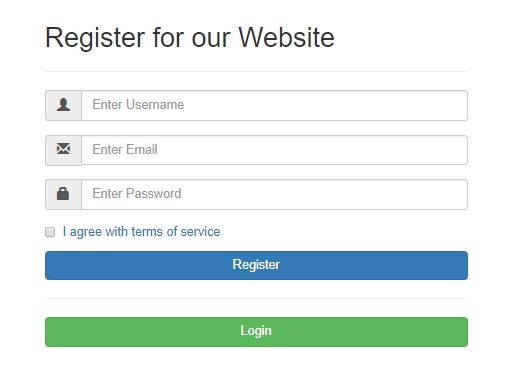_form_: (73, 71, 475, 225), (39, 223, 431, 377)
button: (43, 315, 470, 349), (44, 250, 468, 282)
checkbox: (43, 224, 56, 238)
checkbox_with_label: (42, 224, 221, 239)
field: (79, 88, 468, 123), (79, 177, 470, 211), (78, 133, 470, 166)
